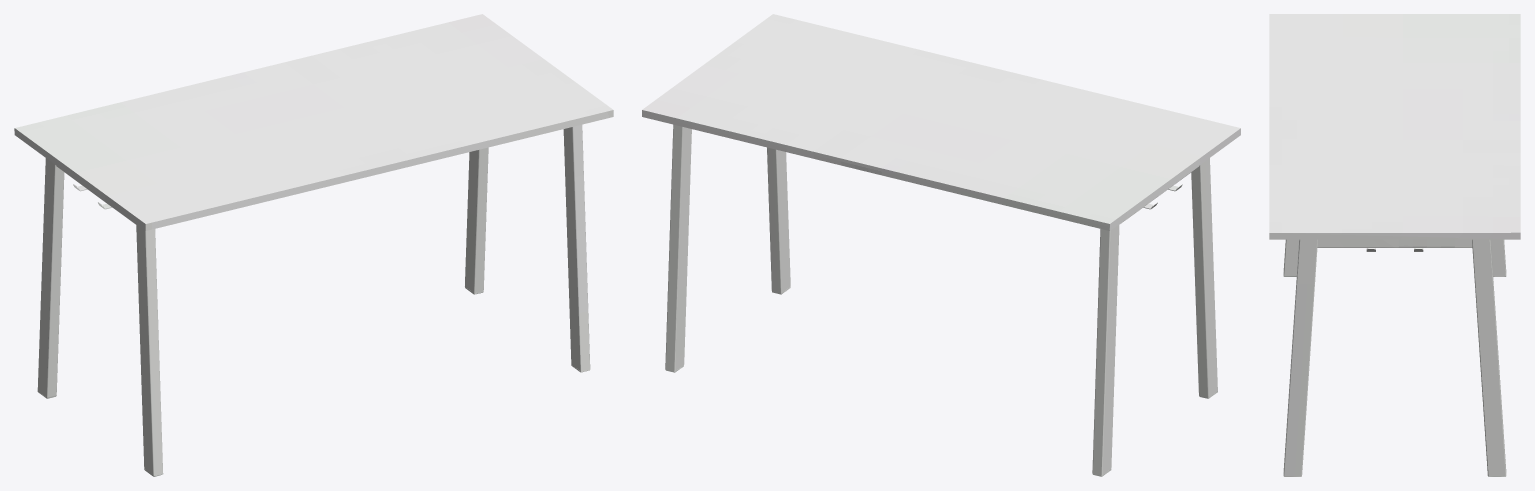
The model's file is 98 - MITTZON - 會議桌, 白色, 140x68x75 公分 IKEA 線上購物.glb.
The picture shows the model from 3 angles, left to right: view 1: azimuth 30°, elevation 25°; view 2: azimuth 150°, elevation 25°; view 3: azimuth 270°, elevation 25°; orthographic projection. The views are drawn at different scales.
Parts seen in each view (by area): view 1: Mesh_0; view 2: Mesh_0; view 3: Mesh_0.
Part boxes in pixels (x1,y1,x2,y2): Mesh_0: (14, 14, 613, 476); Mesh_0: (642, 14, 1240, 476); Mesh_0: (1269, 14, 1520, 476).
Bounding box in the file's own units: 1.4 × 0.7496 × 0.6788.
1 material, 1 textured.
